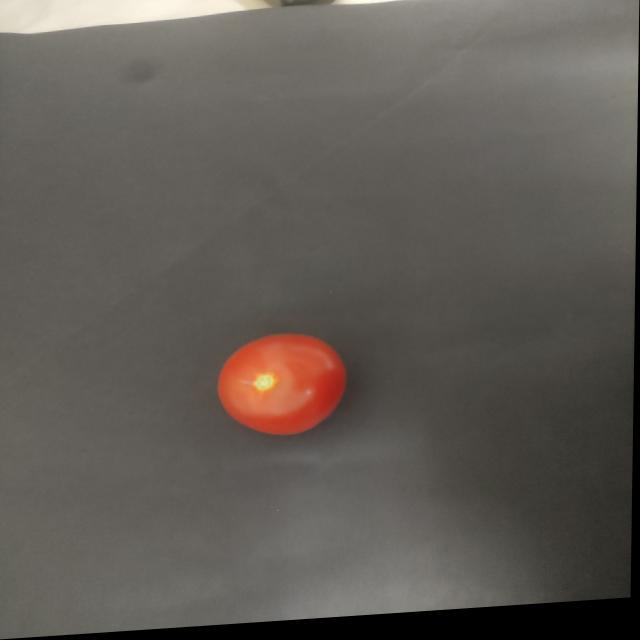kirmizi: (208, 308, 365, 455)
